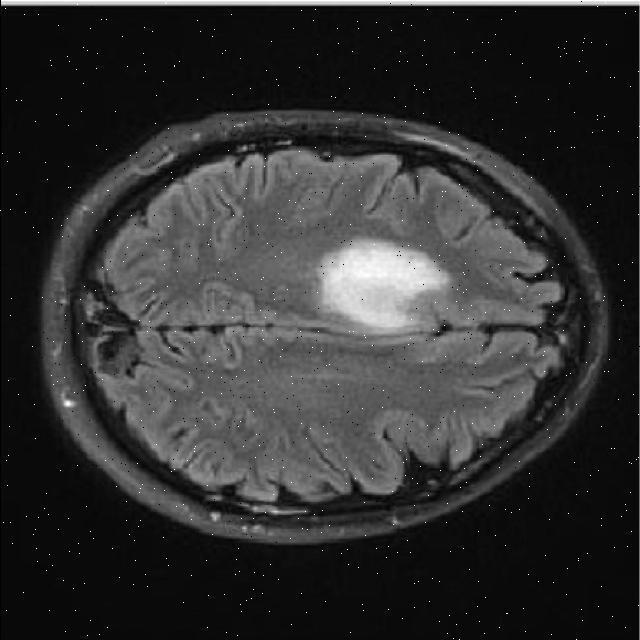Meningioma: (316, 239, 449, 329)
